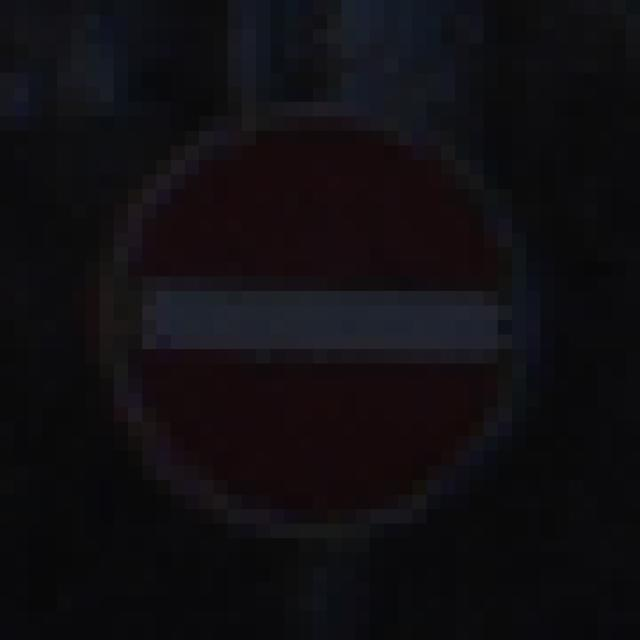No Entry: (86, 74, 570, 568)
